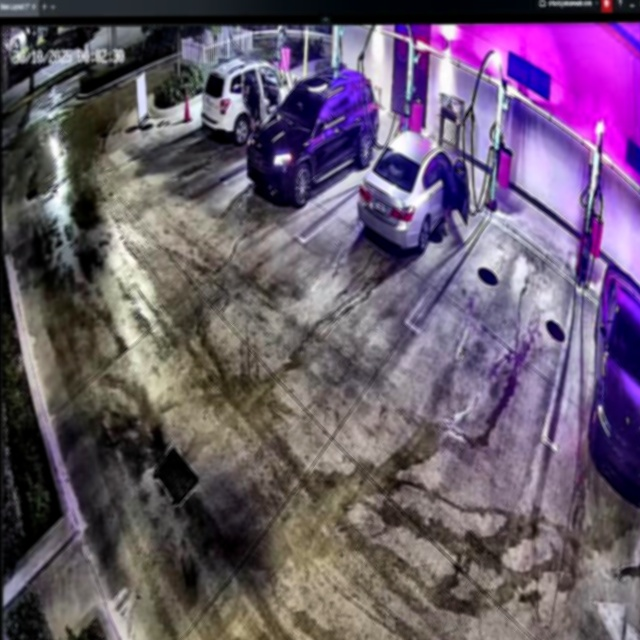Car: (247, 62, 379, 204), (355, 130, 470, 251)
